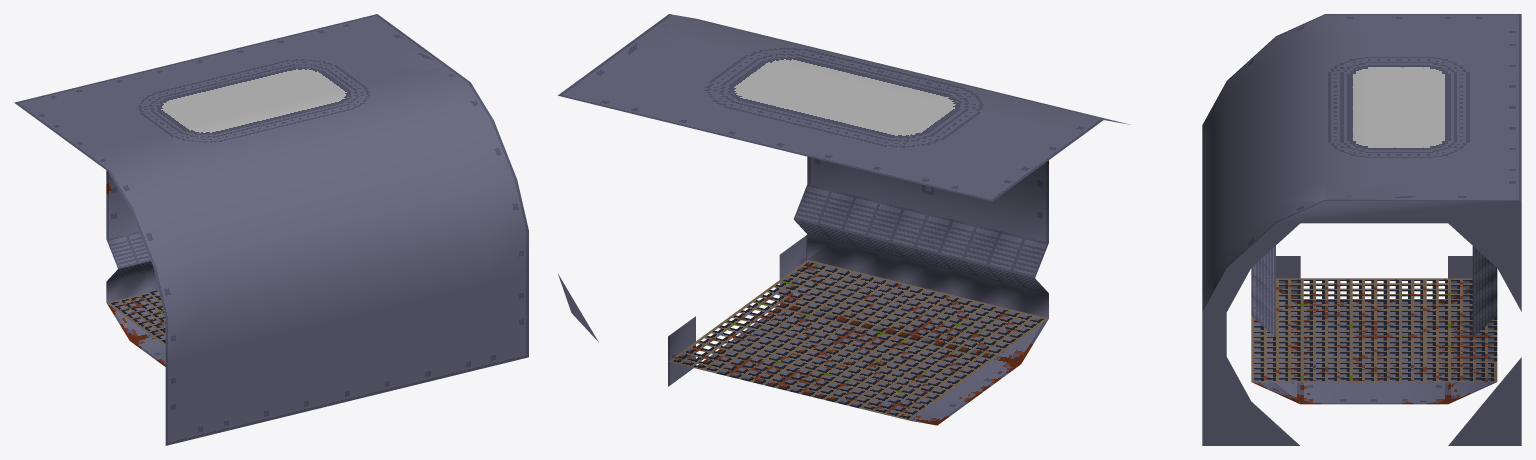
Rendered from Airlock.gltf.
3 renders of one model, left to right at view 1: azimuth 30°, elevation 25°; view 2: azimuth 150°, elevation 25°; view 3: azimuth 270°, elevation 25°, orthographic. The views are drawn at different scales.
Visible parts, largest first — view 1: Airlock; view 2: Airlock; view 3: Airlock.
Part boxes in pixels (x1=…): Airlock: x1=14, y1=14, x2=528, y2=445; Airlock: x1=558, y1=14, x2=1129, y2=425; Airlock: x1=1202, y1=14, x2=1521, y2=445.
Bounding box in the file's own units: 4.5 × 2.75 × 3.25.
1 material, 1 textured.
